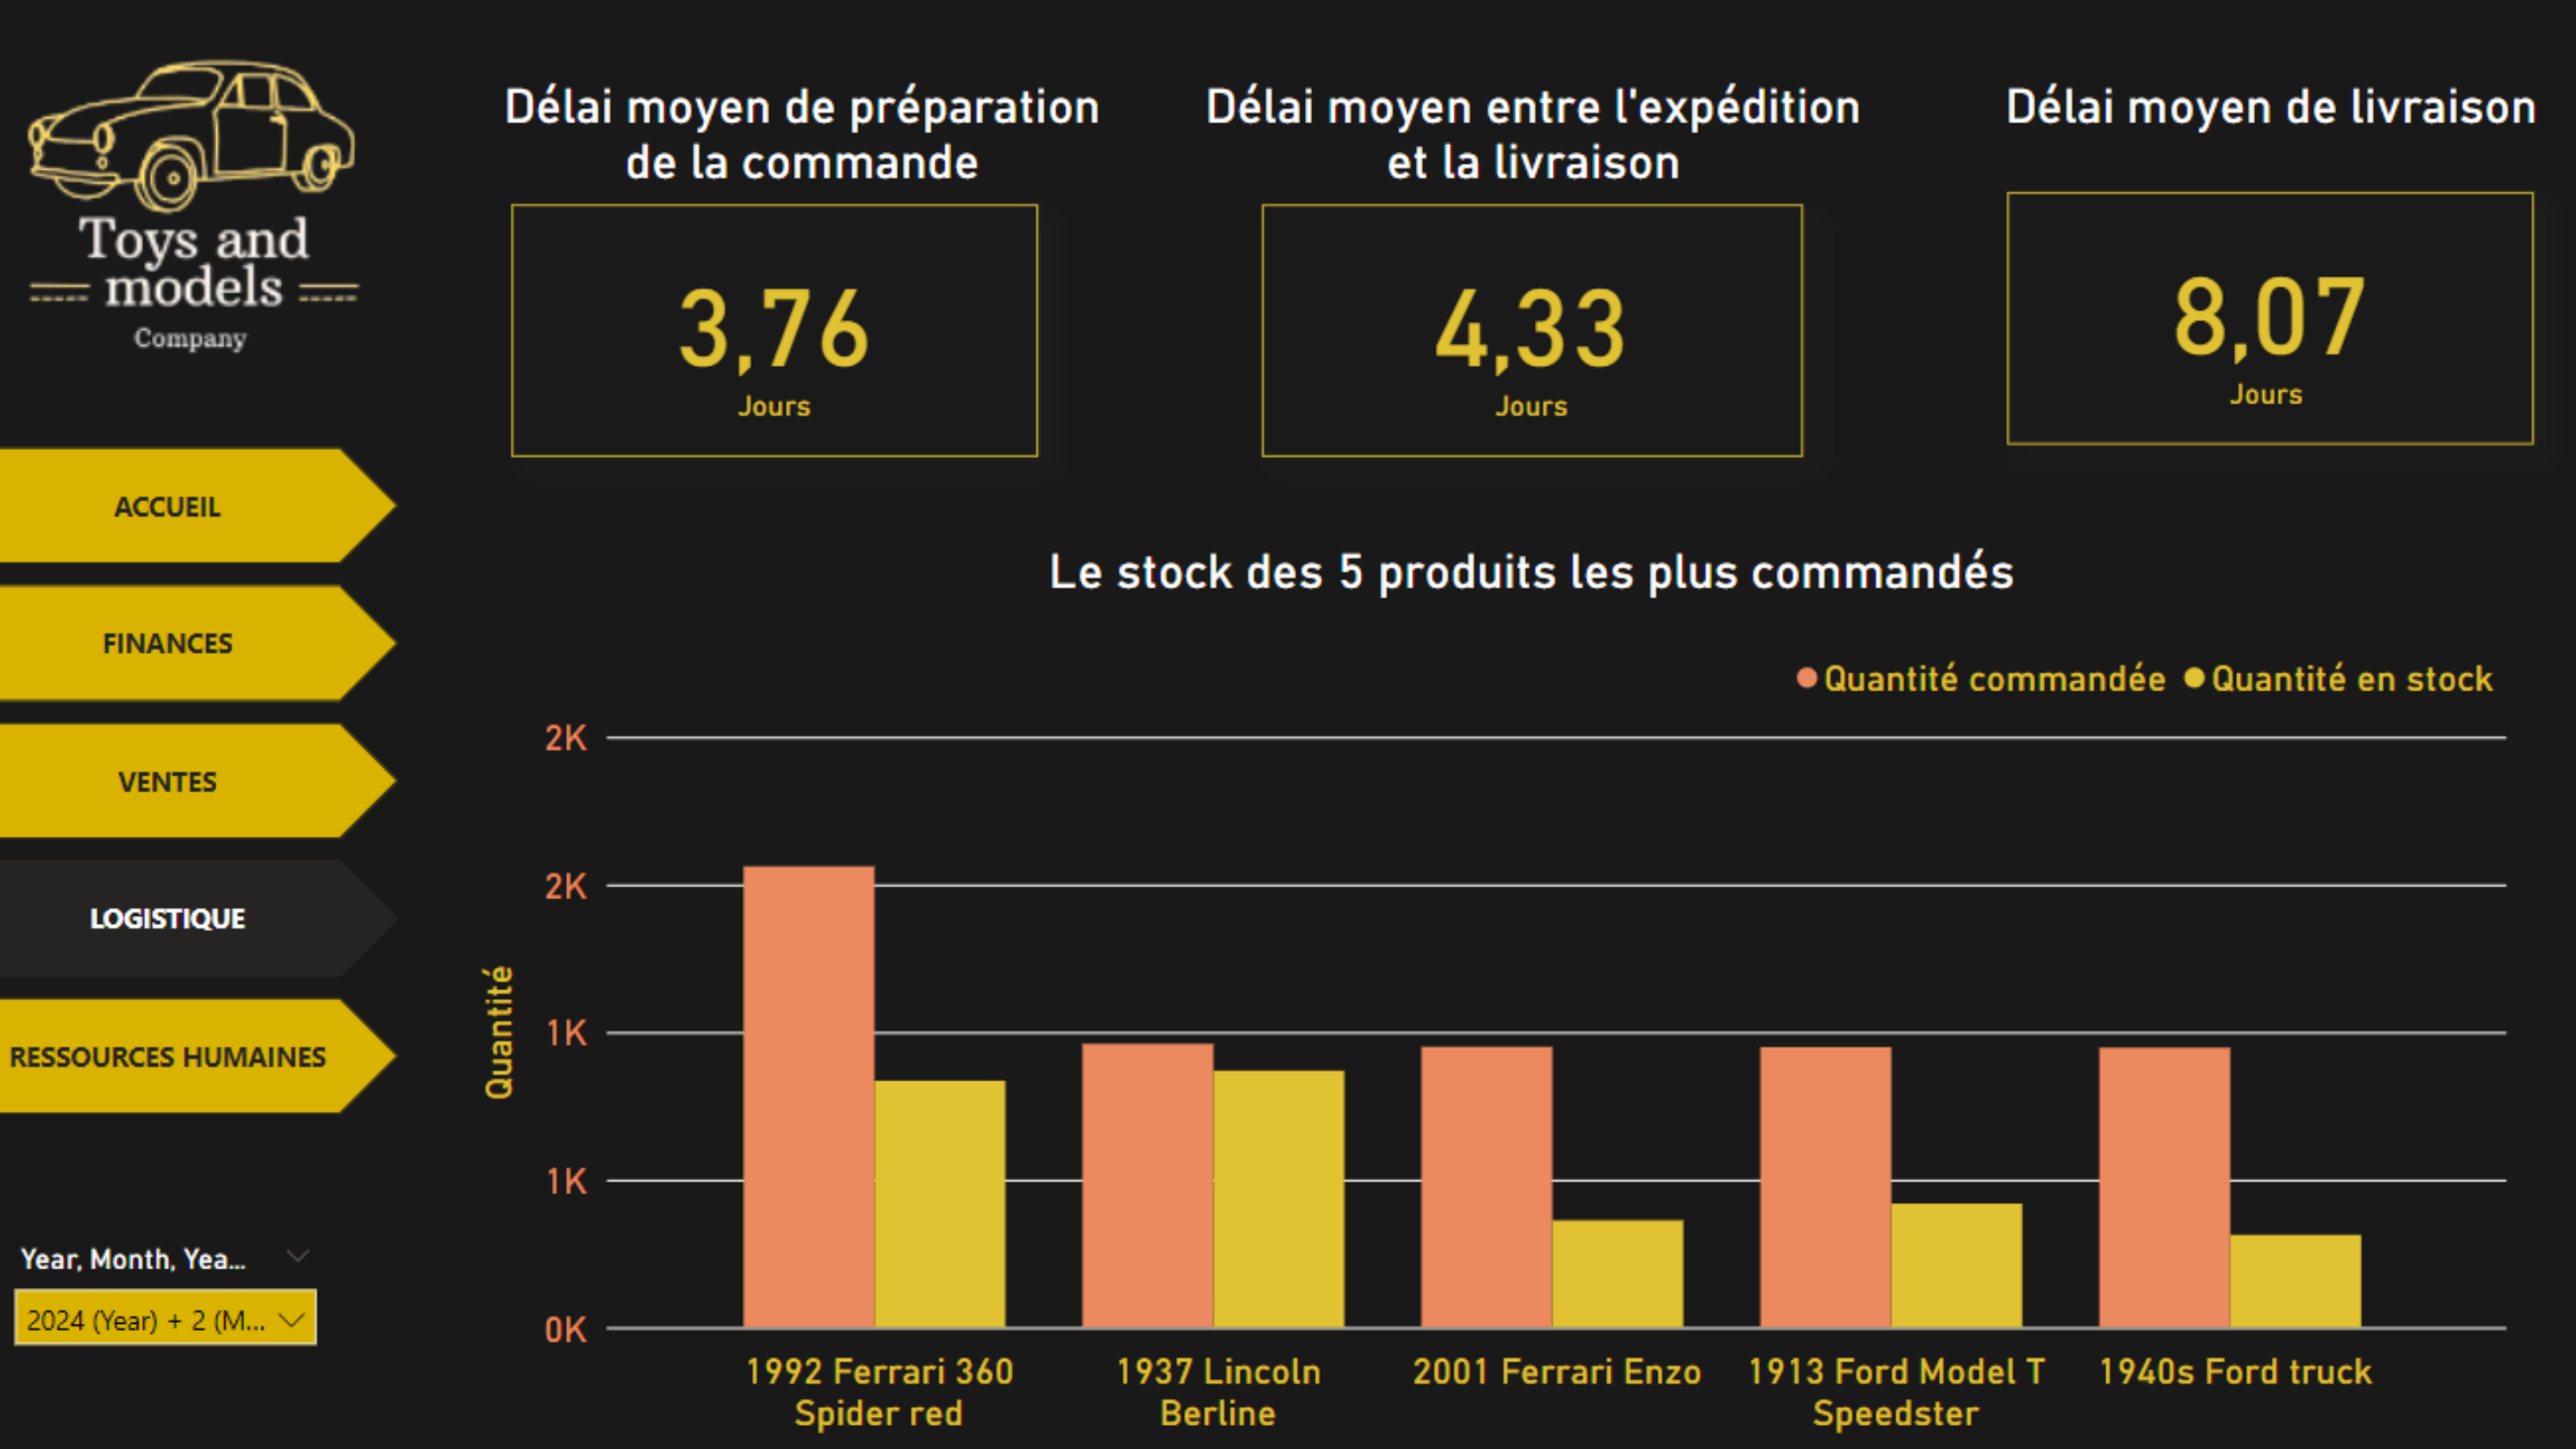

This screenshot's page, from the dashboard's own definition file:
{"tool":"powerbi","page":{"name":"LOGISTIQUE","canvas":[1280,720],"ordinal":3},"visuals":[{"type":"image","box":[0,0,200.6,196.1],"z":0},{"type":"clusteredColumnChart","title":"Le stock des 5 produits les plus commandés","fields":{"Y":["Sum(Requête4.total_quantity_ordered)","Sum(Requête4.quantityInStock)"],"Category":["Requête4.productName"]},"box":[233.7,314.4,1012.1,405.8],"z":1000},{"type":"pageNavigator","box":[0,223.9,200.6,334.9],"z":2000},{"type":"card","title":"Délais moyen de l''expédition à la livraison","fields":{"Values":["Sum(Logistique de l'éxpédition à la livraison.avg_delivery_delay_days)"]},"box":[625.6,103.7,267.1,125.1],"z":3000},{"type":"card","title":"Délais moyen de l''expédition","fields":{"Values":["Sum(Logistique délai d'épédition.avg_delivery_delay_days)"]},"box":[255.9,103.7,260.4,125.1],"z":4000},{"type":"card","title":"Délais moyen de livraison","fields":{"Values":["Sum(Logistique délai de livraison.avg_delivery_delay_days)"]},"box":[994.1,98.1,260.4,125.1],"z":5000},{"type":"slicer","fields":{"Values":["Datum.Year","Datum.Month","Datum.Year-Month"]},"box":[0,610.9,169.1,76.4],"z":6000},{"type":"textbox","box":[496,267,525.6,72.4],"z":7000},{"type":"textbox","box":[968.2,37.2,312.2,44],"z":8000},{"type":"textbox","box":[582.7,37.2,353.9,66.5],"z":9000},{"type":"textbox","box":[233.3,37.2,331.4,66.5],"z":10000}]}

Visuals, with their boxes in screenshot pixels (x1, y1, x2, y2), scaled from the page's 1280x720 canvas onto the 2576x1449 screenshot:
image: select_region(0, 0, 403, 394)
"Le stock des 5 produits les plus commandés" clusteredColumnChart: select_region(470, 632, 2507, 1448)
pageNavigator: select_region(0, 451, 403, 1124)
"Délais moyen de l''expédition à la livraison" card: select_region(1259, 208, 1797, 461)
"Délais moyen de l''expédition" card: select_region(515, 208, 1039, 461)
"Délais moyen de livraison" card: select_region(2001, 198, 2525, 449)
slicer - Datum.Year x Datum.Month: select_region(0, 1230, 340, 1383)
textbox: select_region(998, 538, 2056, 683)
textbox: select_region(1948, 75, 2575, 164)
textbox: select_region(1173, 75, 1885, 208)
textbox: select_region(470, 75, 1137, 208)
